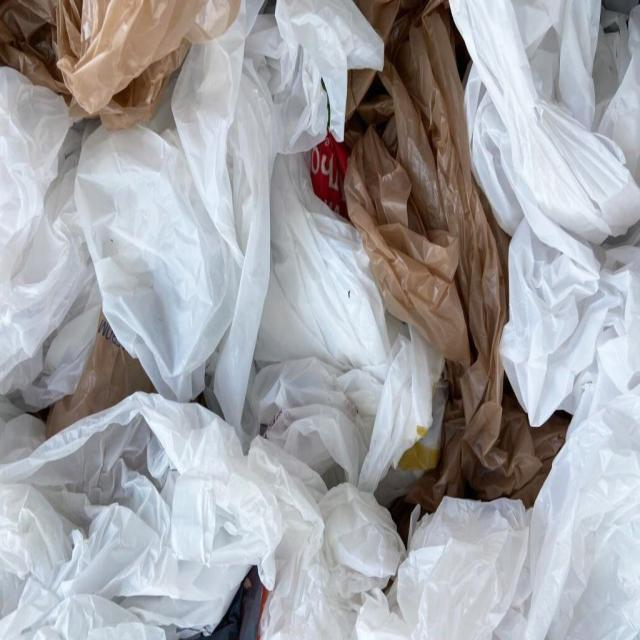Single-layer Plastic: (75, 0, 275, 438), (0, 392, 281, 638), (250, 154, 444, 491), (380, 2, 506, 462), (451, 0, 640, 244), (0, 68, 100, 406), (249, 437, 405, 640), (0, 1, 240, 129), (345, 128, 471, 367), (500, 218, 640, 425), (526, 394, 640, 637), (355, 497, 531, 640), (245, 0, 382, 154), (405, 390, 570, 511), (46, 313, 155, 436), (592, 6, 640, 185)
